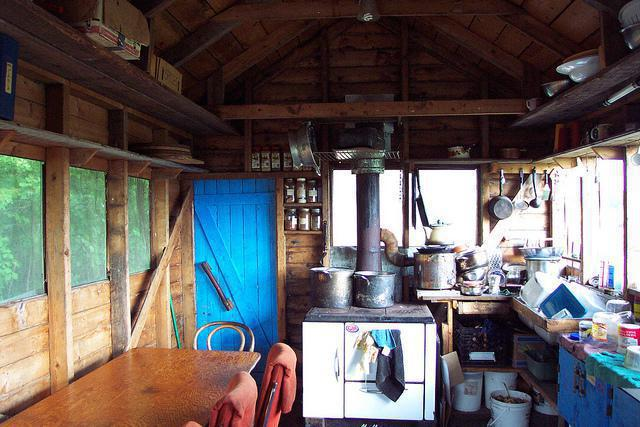Lavamanos: (514, 273, 622, 341)
Otro Obstaculo: (490, 384, 527, 426)
